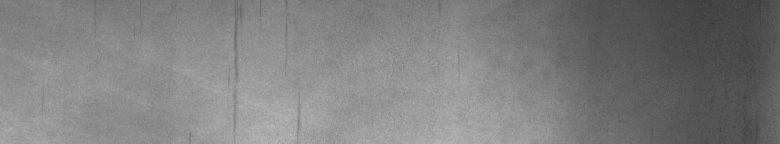ka: (228, 8, 301, 134)
